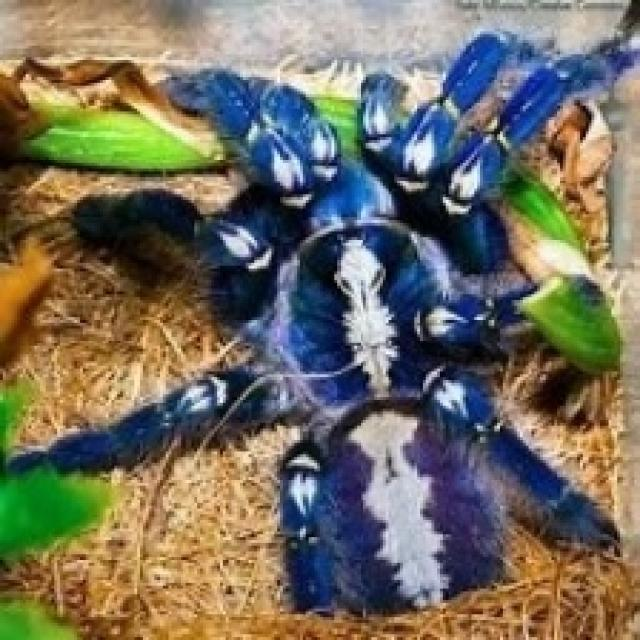Venomous spider: (90, 59, 602, 616)
